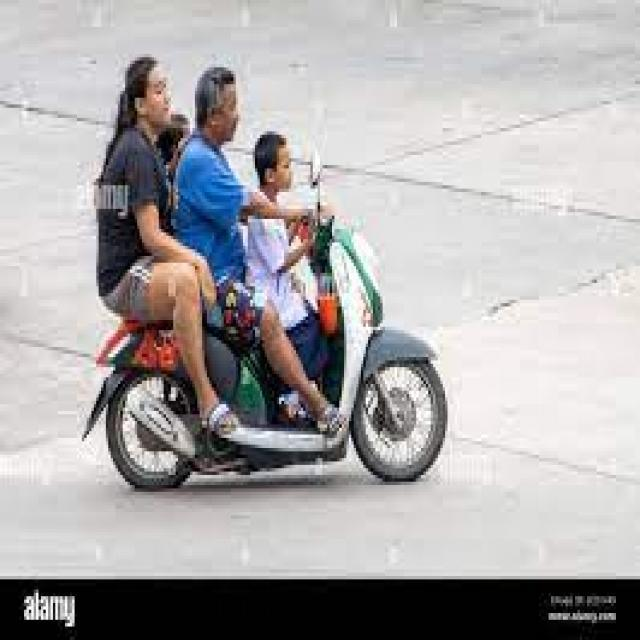No helmet: (190, 64, 240, 149)
Triple riding: (89, 56, 311, 370)
